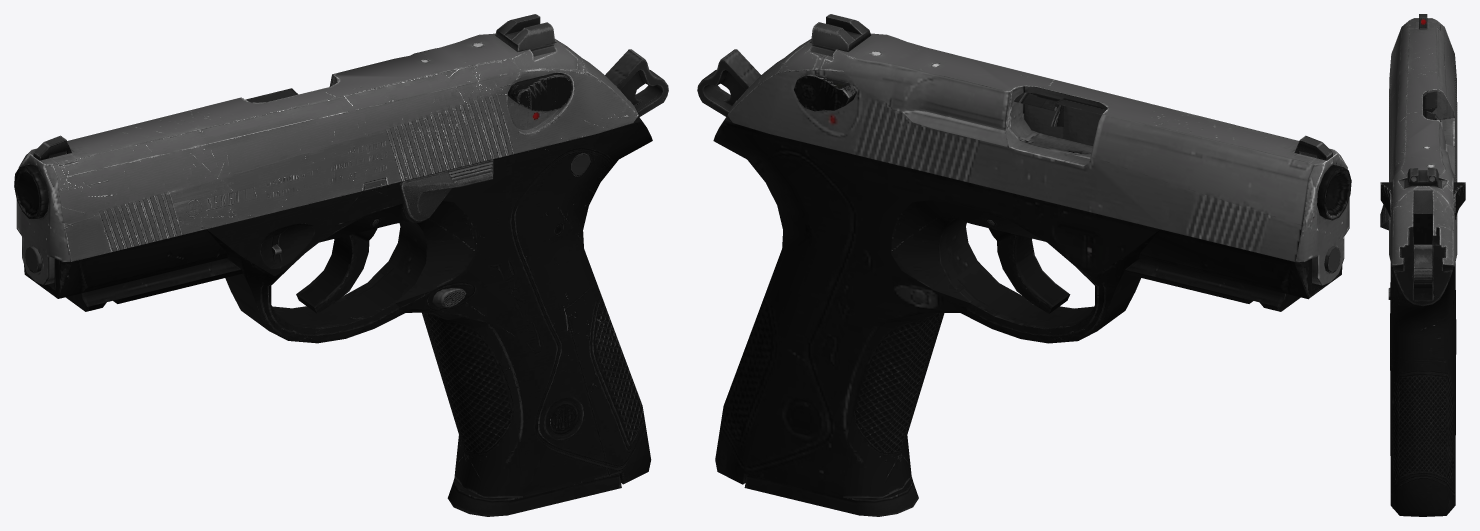
File: weapon_px4s.glb
The picture shows the model from 3 angles, left to right: view 1: azimuth 30°, elevation 25°; view 2: azimuth 150°, elevation 25°; view 3: azimuth 270°, elevation 25°; orthographic projection. The views are drawn at different scales.
Visible parts, largest first — view 1: main_frame_px4s, slide_px4s, trigger_px4s, magazine_px4s, hammer_px4s, rear_sight_px4s; view 2: main_frame_px4s, slide_px4s, trigger_px4s, magazine_px4s, hammer_px4s, rear_sight_px4s; view 3: main_frame_px4s, slide_px4s, hammer_px4s, rear_sight_px4s, front_sight_px4s.
Boxes of the visible parts, x1=… form: main_frame_px4s: x1=24, y1=116, x2=652, y2=497; slide_px4s: x1=14, y1=33, x2=638, y2=285; trigger_px4s: x1=296, y1=228, x2=377, y2=313; magazine_px4s: x1=447, y1=474, x2=621, y2=516; hammer_px4s: x1=605, y1=49, x2=668, y2=116; rear_sight_px4s: x1=495, y1=14, x2=555, y2=51; main_frame_px4s: x1=713, y1=115, x2=1342, y2=498; slide_px4s: x1=727, y1=33, x2=1351, y2=285; trigger_px4s: x1=988, y1=228, x2=1070, y2=313; magazine_px4s: x1=744, y1=474, x2=918, y2=516; hammer_px4s: x1=697, y1=49, x2=760, y2=116; rear_sight_px4s: x1=811, y1=14, x2=871, y2=51; main_frame_px4s: x1=1380, y1=205, x2=1456, y2=516; slide_px4s: x1=1380, y1=18, x2=1465, y2=266; hammer_px4s: x1=1414, y1=244, x2=1432, y2=288; rear_sight_px4s: x1=1407, y1=168, x2=1438, y2=185; front_sight_px4s: x1=1419, y1=14, x2=1427, y2=29.
Size of the model in its own units: 30.63 by 21.5 by 5.26.
Materials: 1 (1 with a texture image).
